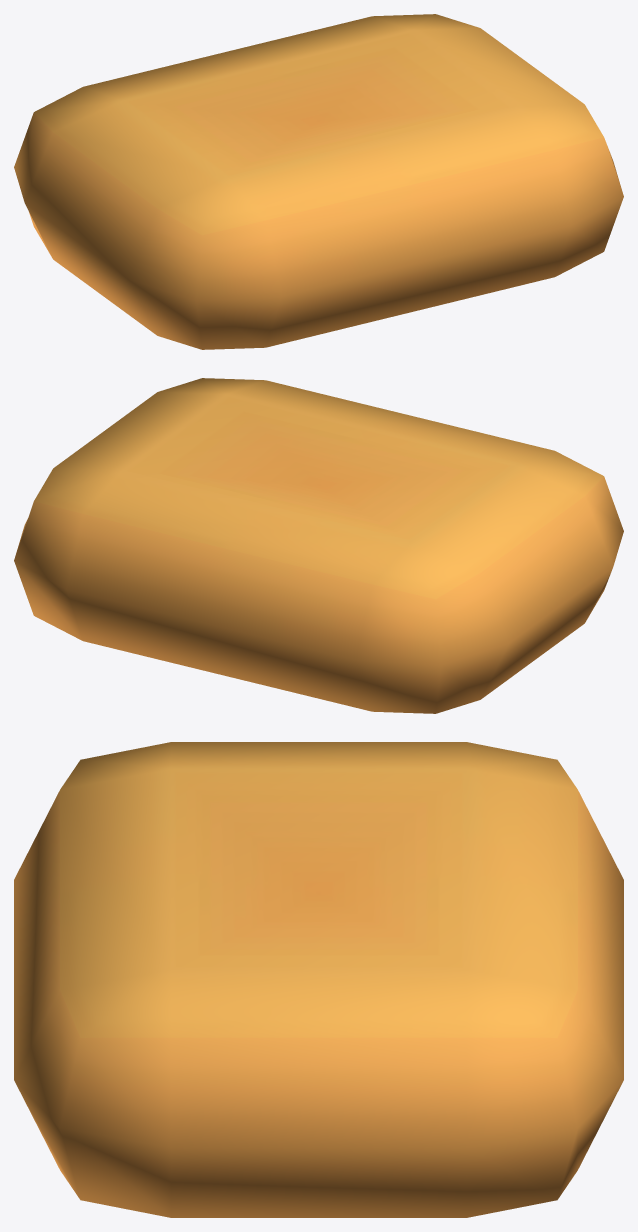
File: pillow-a.glb
The picture shows the model from 3 angles, top to bottom: view 1: azimuth 30°, elevation 25°; view 2: azimuth 150°, elevation 25°; view 3: azimuth 270°, elevation 25°; orthographic projection. The views are drawn at different scales.
Parts seen in each view (by area): view 1: pillow_A; view 2: pillow_A; view 3: pillow_A.
Part boxes in pixels (x1,y1,x2,y2): pillow_A: (14, 14, 623, 349); pillow_A: (14, 378, 623, 713); pillow_A: (14, 742, 623, 1217).
Bounding box in the file's own units: 0.65 × 0.2 × 0.5.
Materials: 1 (1 with a texture image).
